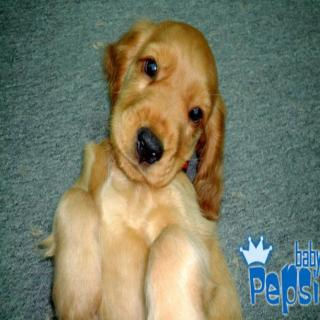dog: (104, 12, 231, 231)
nose: (133, 124, 168, 169)
